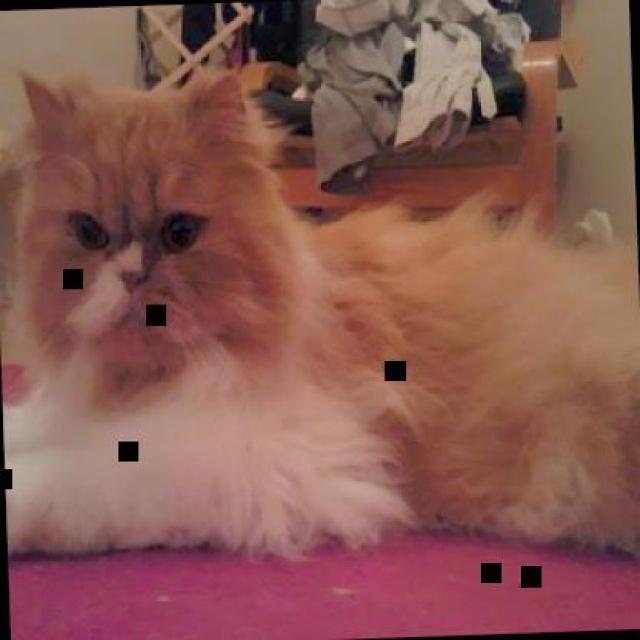cat: (0, 52, 638, 581)
